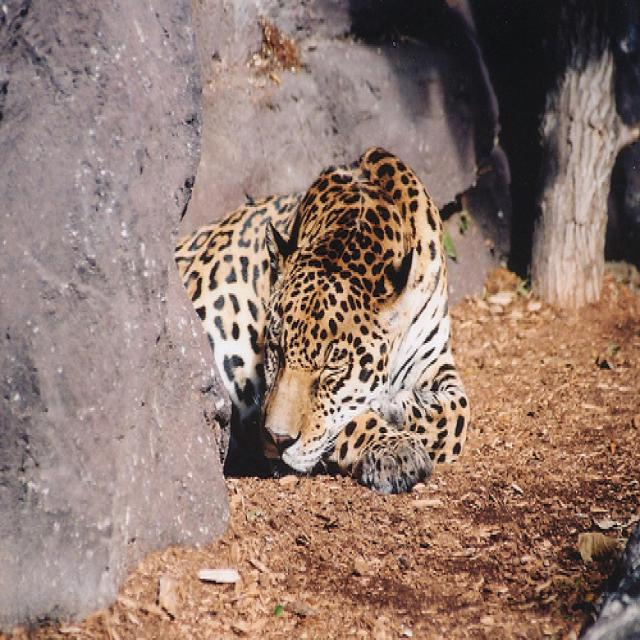Leopard: (174, 146, 467, 488)
